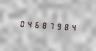eight: (59, 20, 65, 32), (38, 19, 44, 30)
four: (24, 18, 30, 29), (66, 21, 72, 32)
nine: (52, 20, 58, 31)
seven: (45, 19, 51, 31)
six: (31, 18, 37, 30)
zero: (17, 17, 23, 29)
